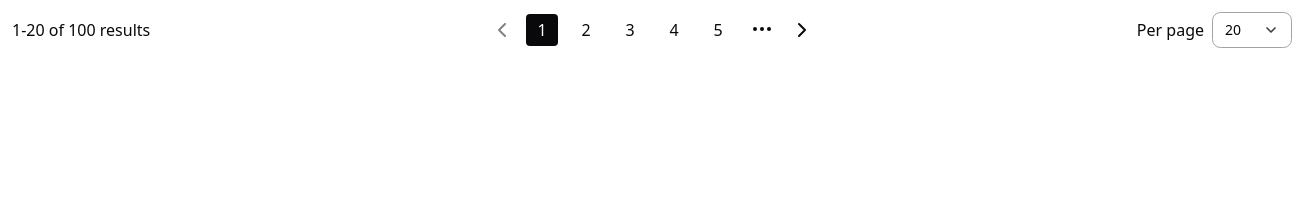
TablePagination › Page Size Selection › displays current page size value
Click the dropdown with test id "table-pagination-page-size-trigger": click(1252, 30) [1212,12,1292,48]
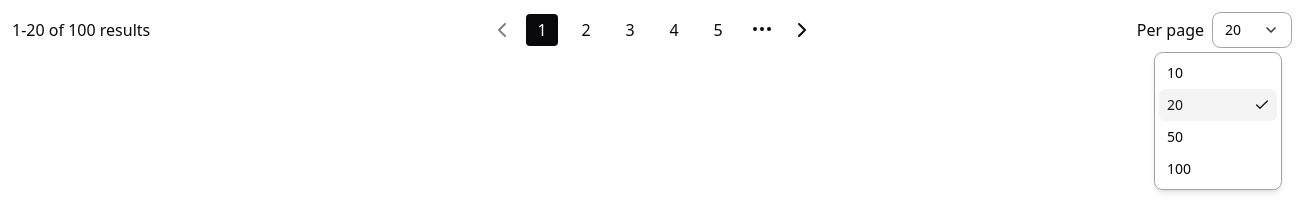
Expected: the list with test id "table-pagination-page-size-content" is shown, [1154,52,1282,190]
